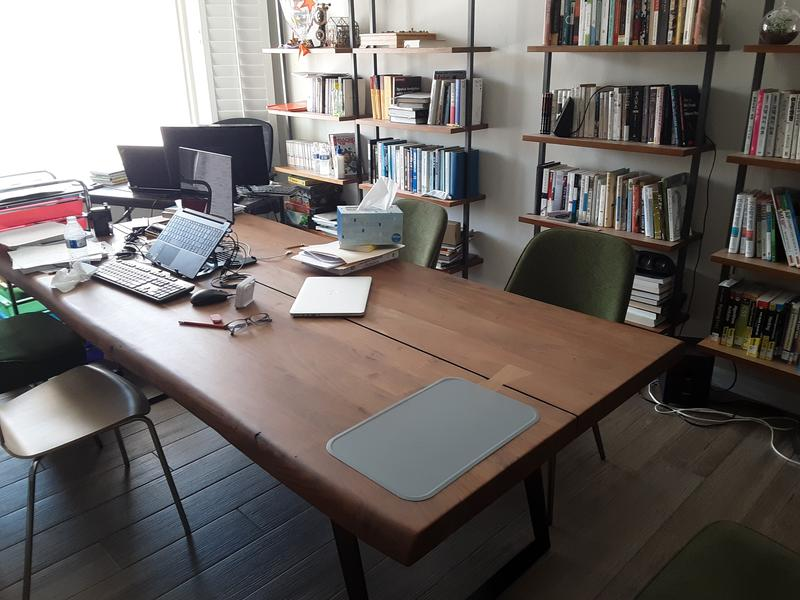glasses: (222, 311, 276, 336)
